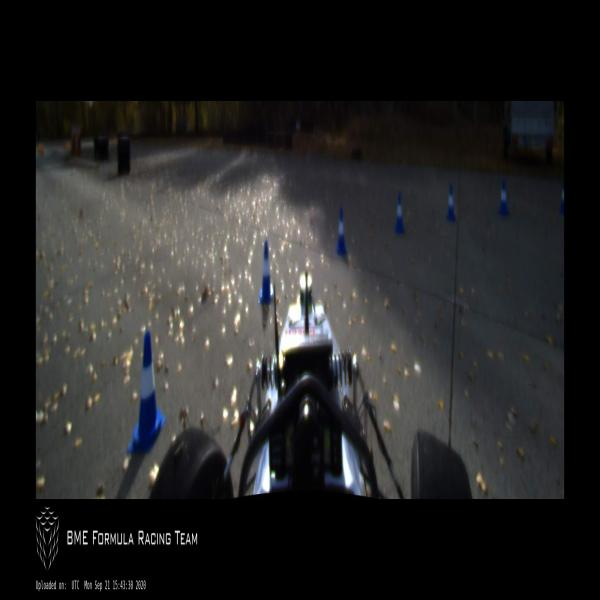blue_cone: (128, 333, 166, 451), (259, 241, 273, 303), (335, 207, 347, 255), (394, 193, 405, 235), (498, 181, 510, 216), (446, 184, 456, 222), (560, 185, 564, 216)
